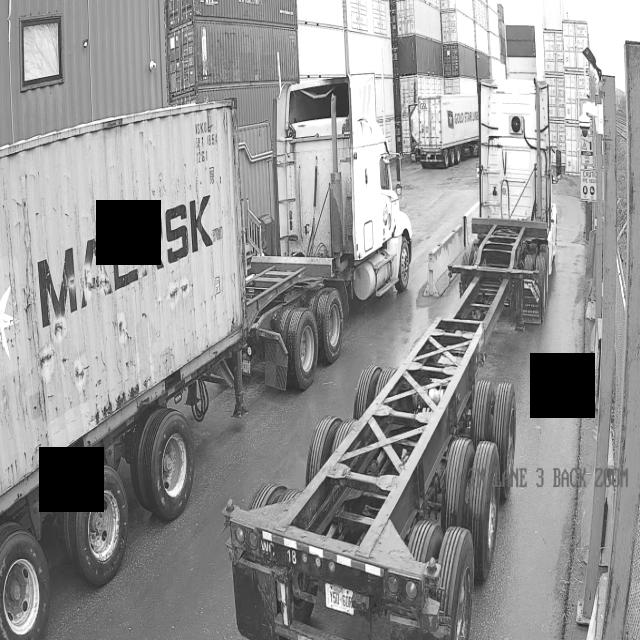license_plate: (327, 581, 353, 619)
truck_with_container: (0, 79, 411, 640)
truck_without_container: (224, 79, 558, 640)
